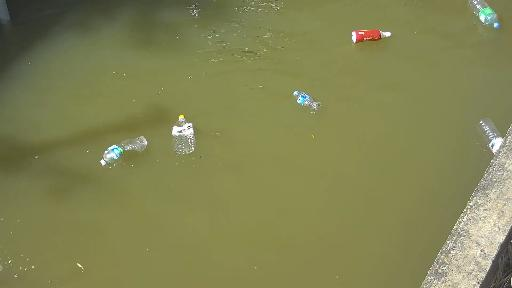plastic: (157, 111, 208, 165), (102, 124, 146, 177), (337, 27, 410, 56), (446, 0, 508, 29), (265, 93, 338, 117), (469, 106, 498, 146)
